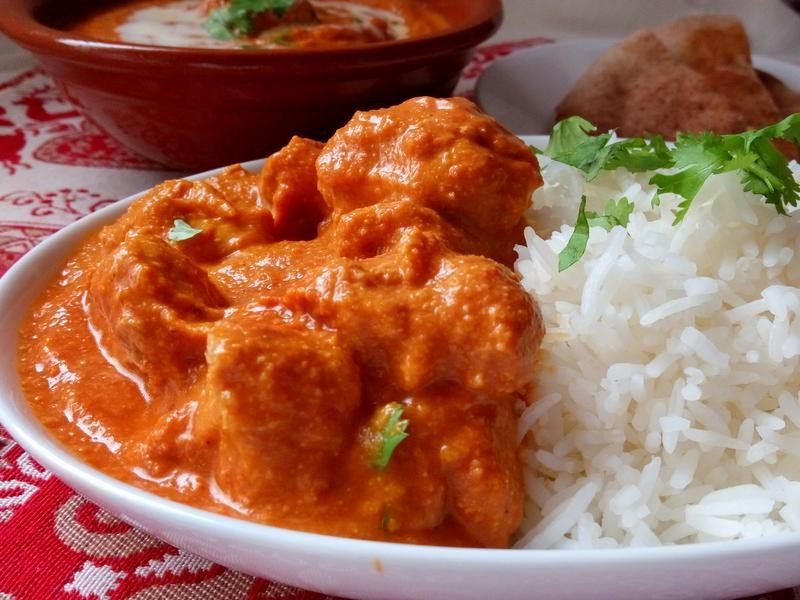butter_chicken: (35, 109, 537, 524)
